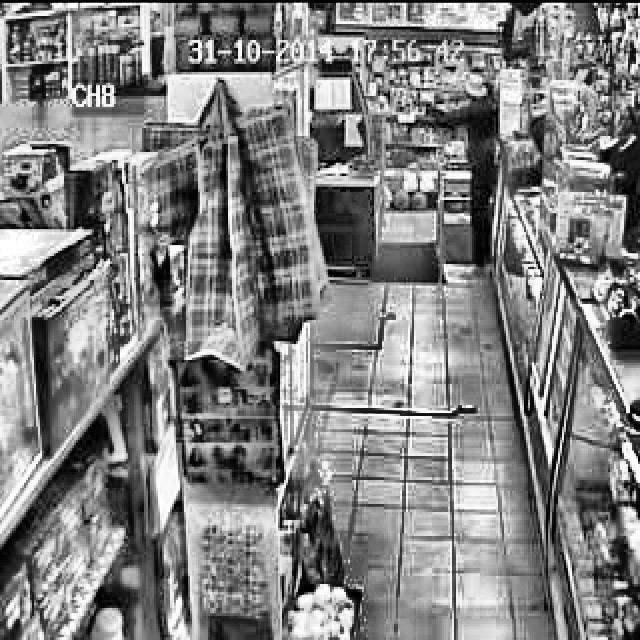robbery: (408, 71, 506, 284)
